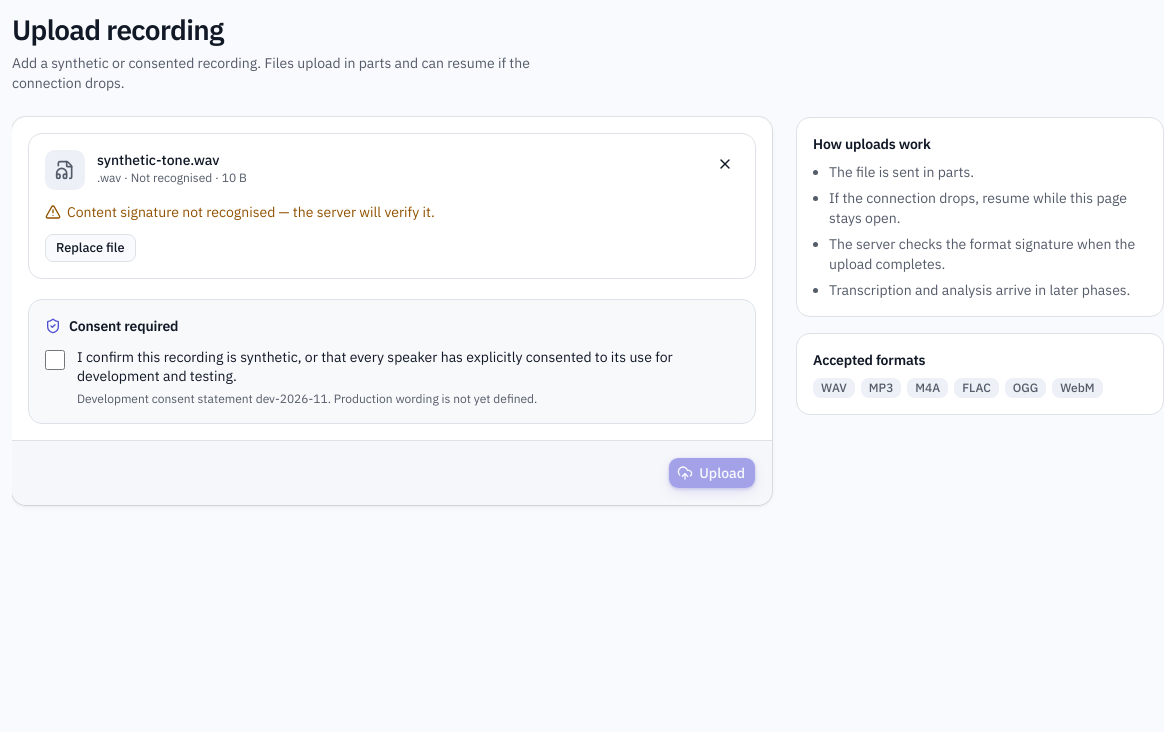
Test case: UploadPage › uploads in parts with consent, then shows an honest success state
Earlier steps of the test are not shown.
Step 1. Click the checkbox → (55, 360), box [45,350,65,370]
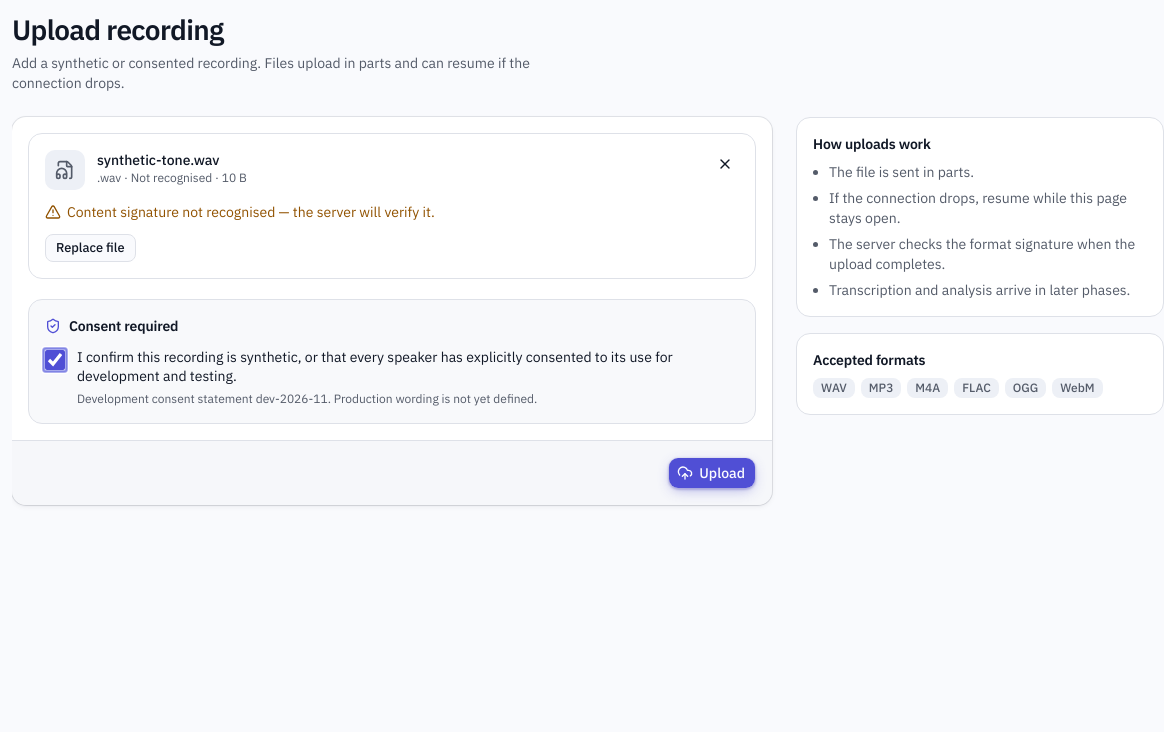
Step 2. Click the button "Upload" → (712, 472), box [668,456,756,488]
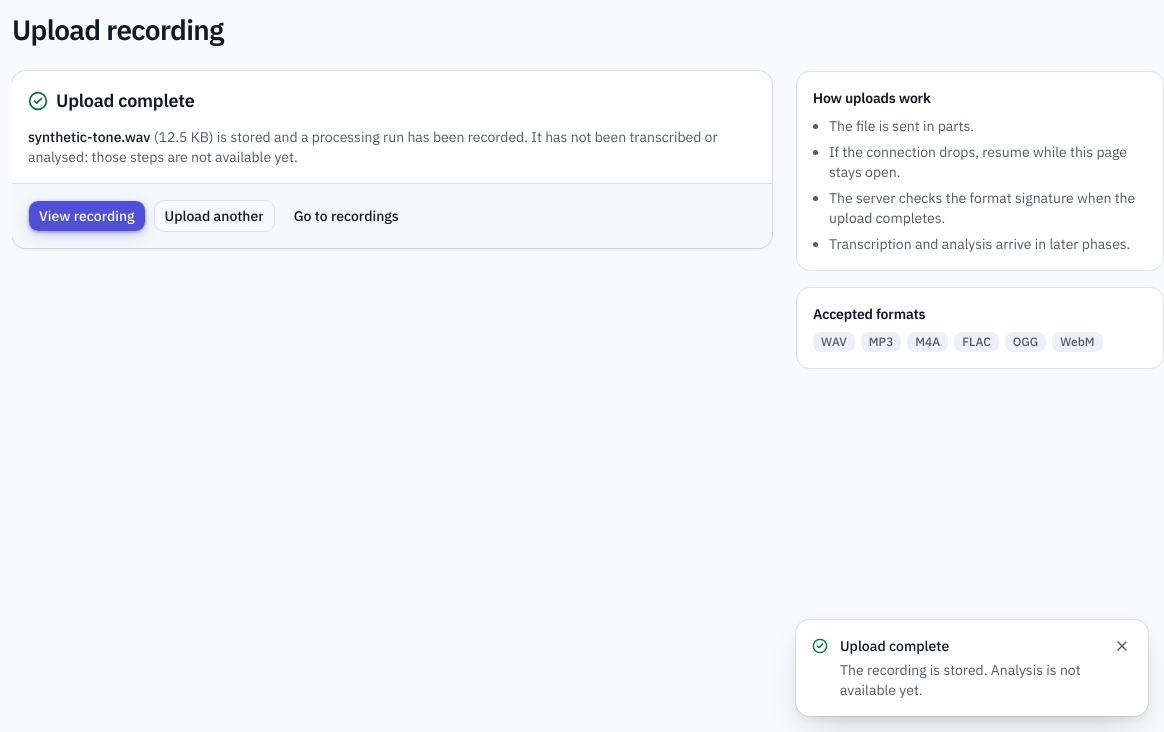
expect the heading "Upload complete" is shown: met, box [28,89,195,112]
expect the text "has not been transcribed or analysed" is shown: met, box [28,128,718,166]
